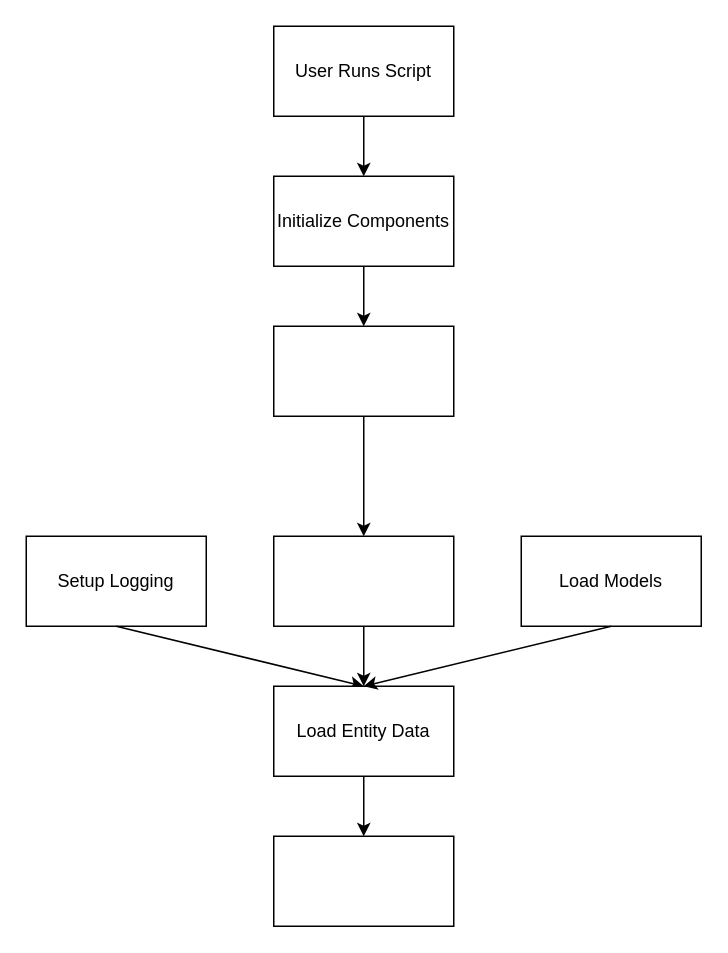
Some shapes in this 728 by 953 pixel diagram are drawn without their labels. The shapes that lost their labels are listed below. From the top down, each one's centre as x and y in pixels, then its label:
At (x=363, y=370): "Load Configuration".
At (x=363, y=580): "Initialize Databases".
At (x=363, y=880): "Phase 1 Complete".
